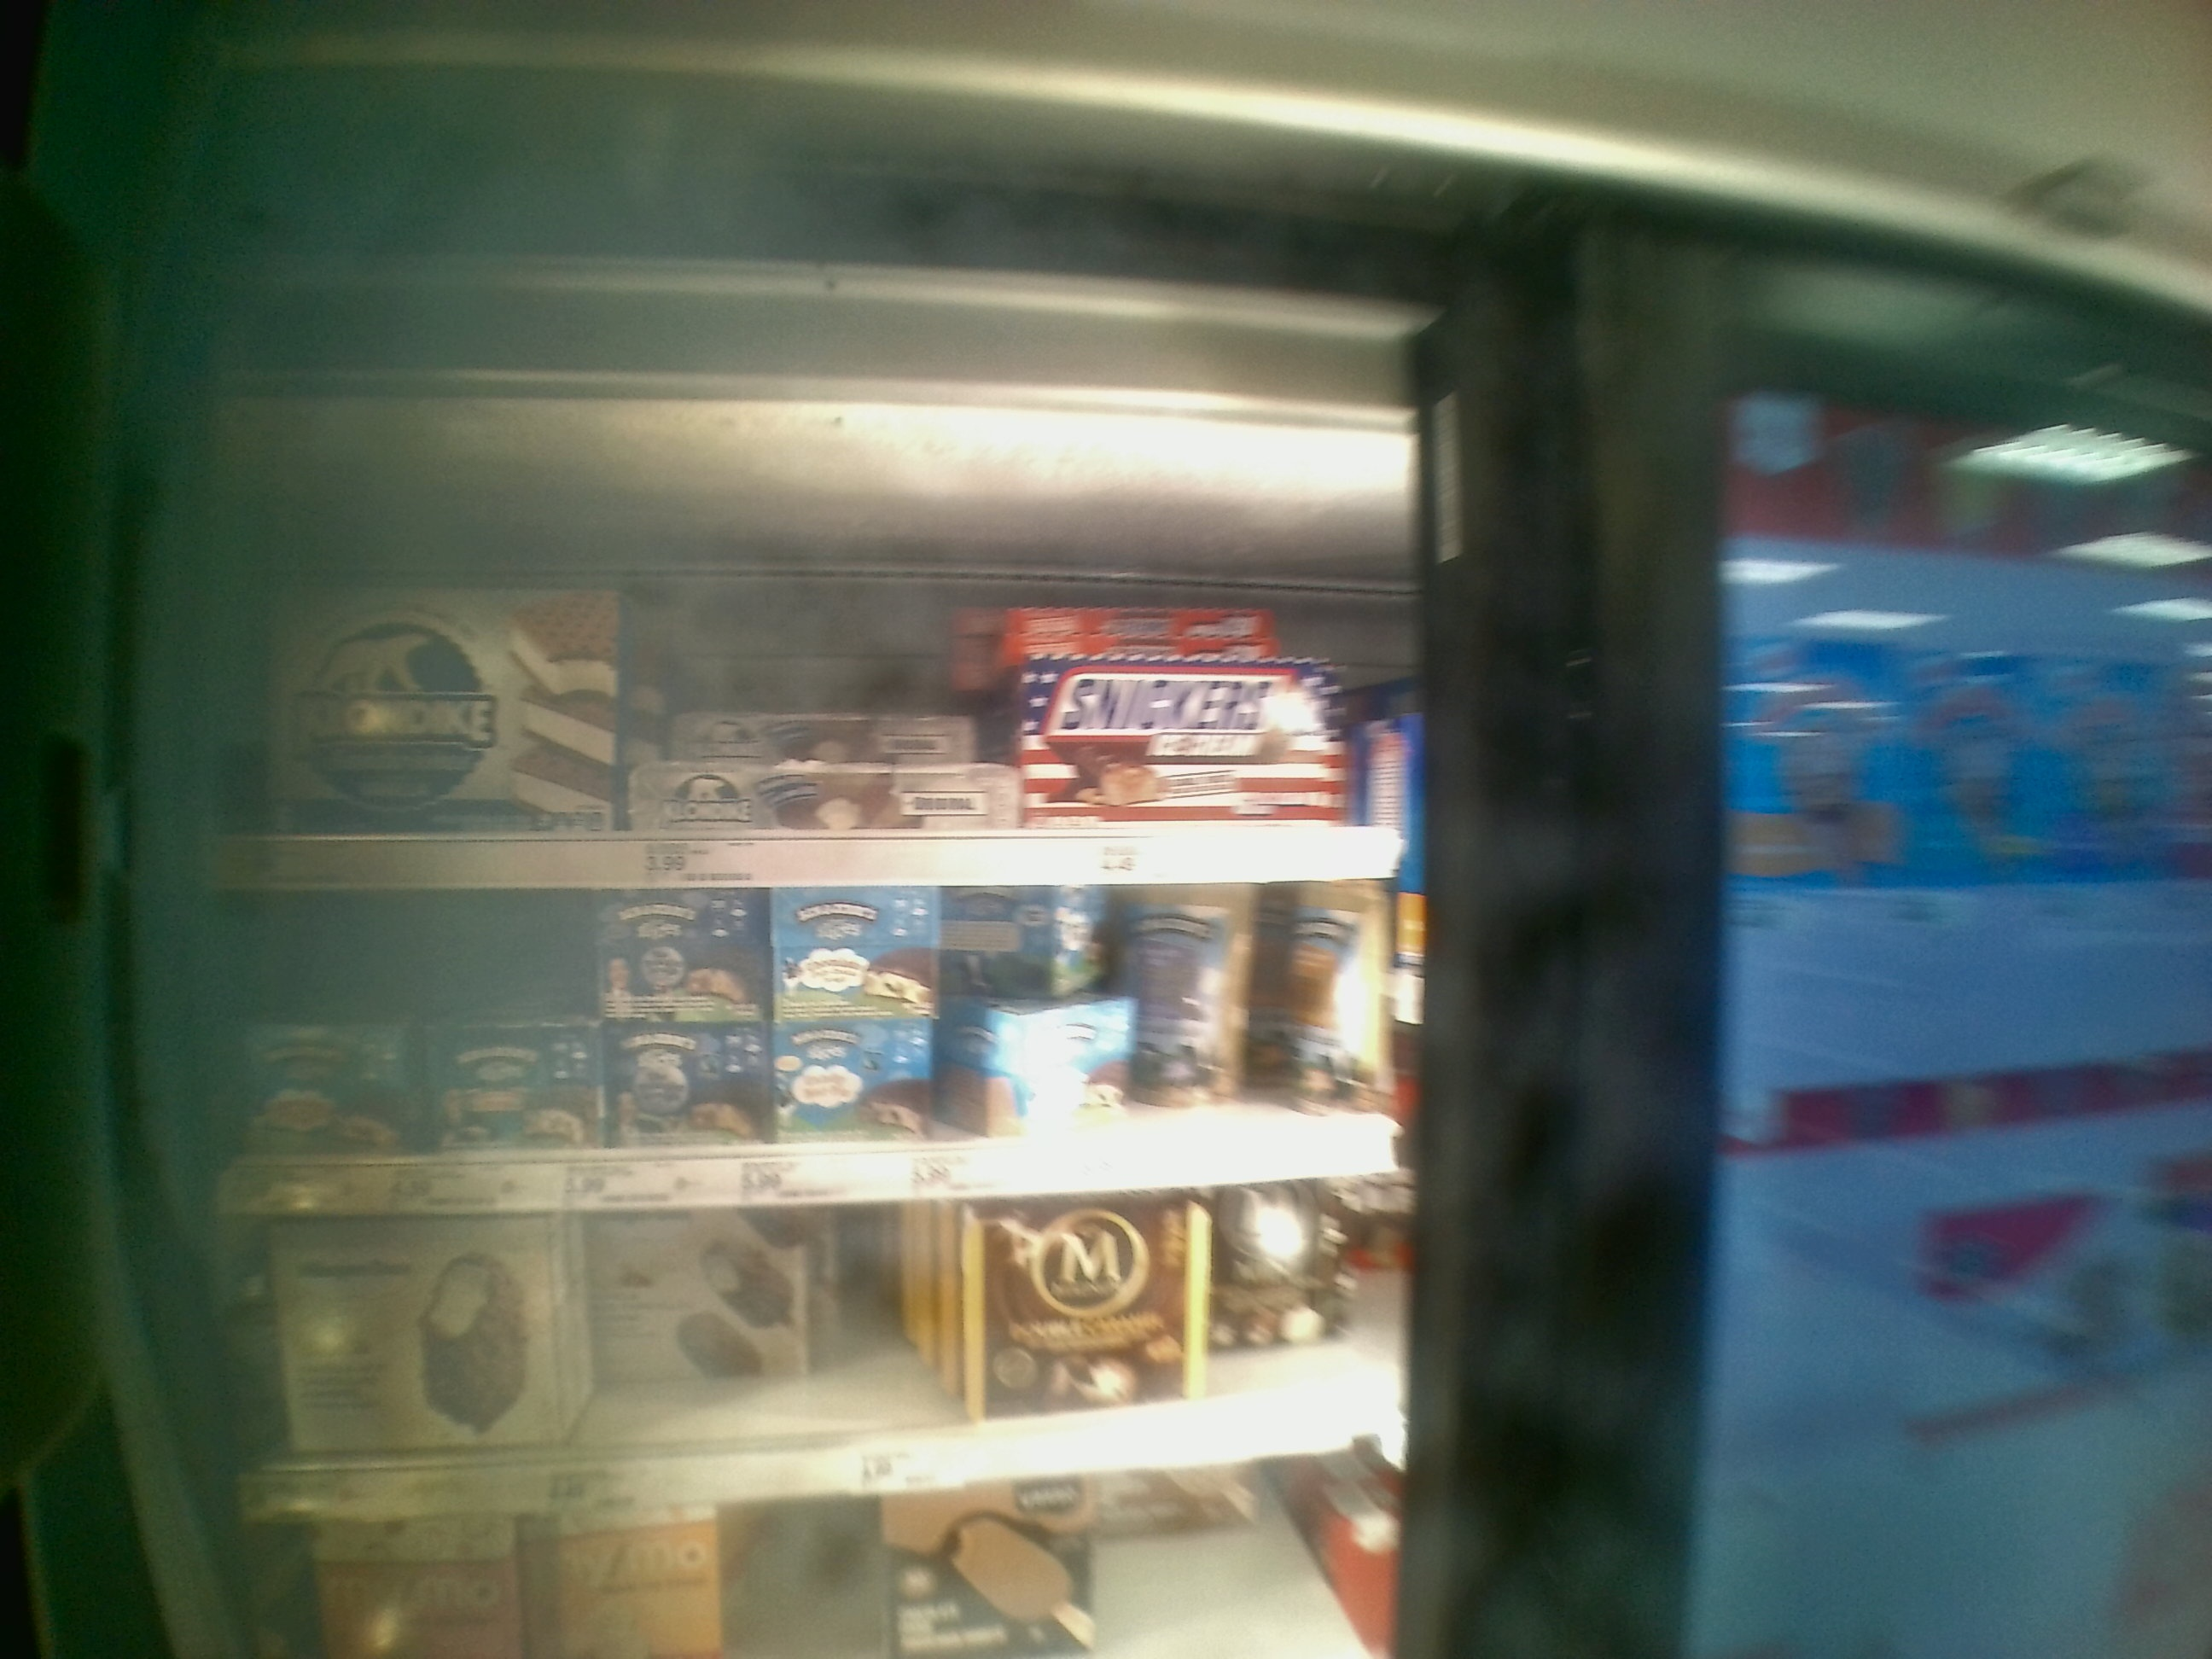ice-cream-shelf: (199, 495, 1407, 887), (200, 1199, 1439, 1514), (200, 889, 1406, 1188)
